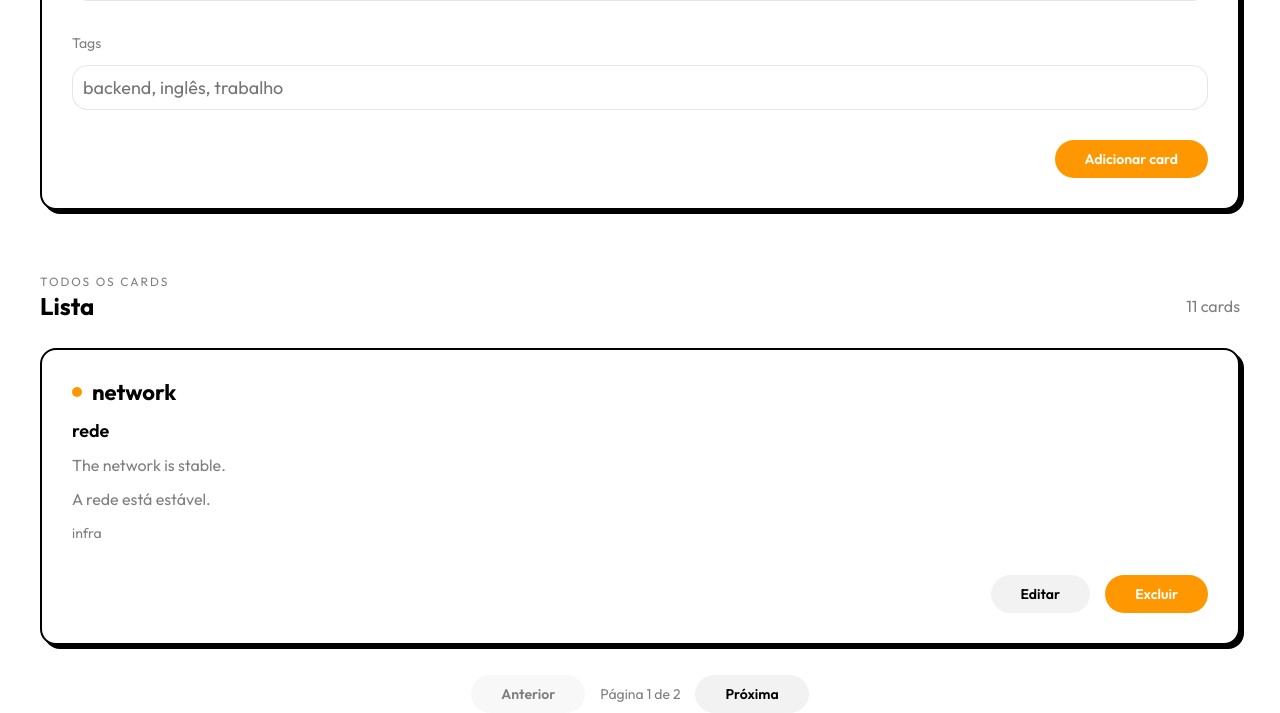
Test: cards do deck › volta para a página anterior ao excluir o único card da última página
(page scrolled)
Click the button "Próxima" at (752,694), box [696, 675, 809, 712]
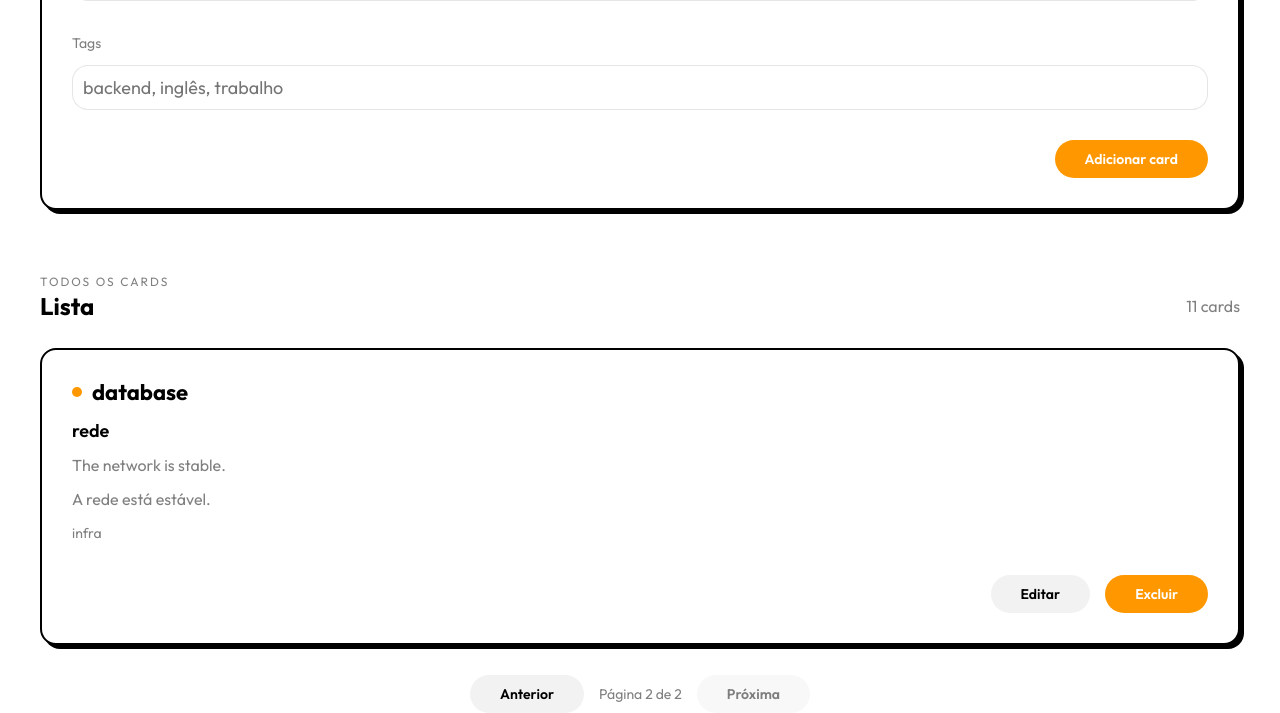
Click the button with aria-label "Excluir card database" at (1157,594), box [1105, 575, 1208, 613]
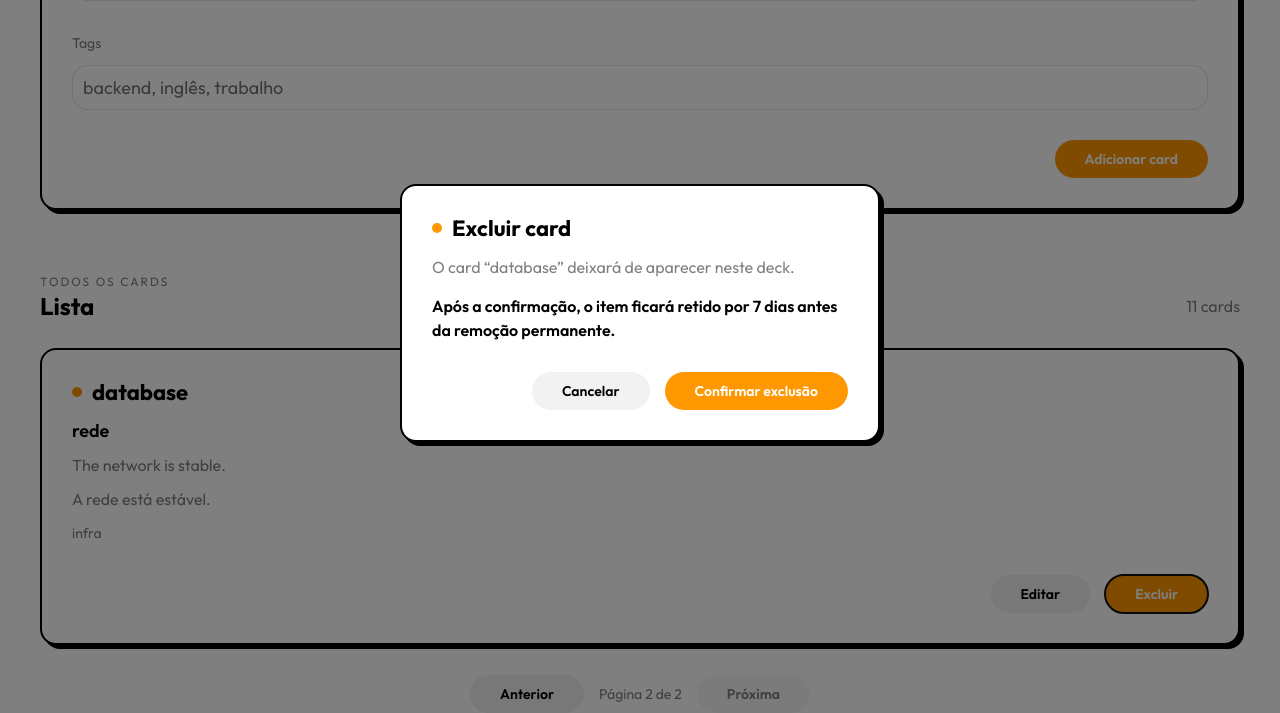
Click the button "Confirmar exclusão" at (756,391), box [664, 372, 848, 410]
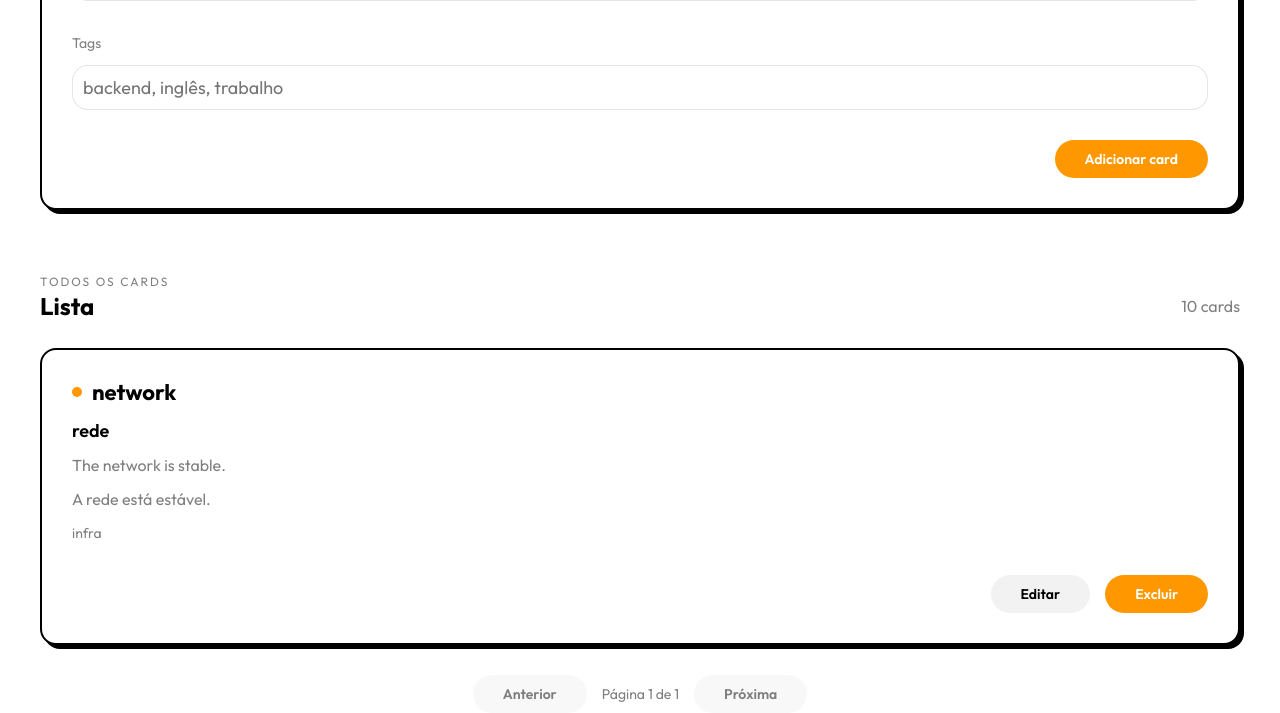
Check: the text "Página 1 de 1" is shown, box [602, 682, 679, 706]
